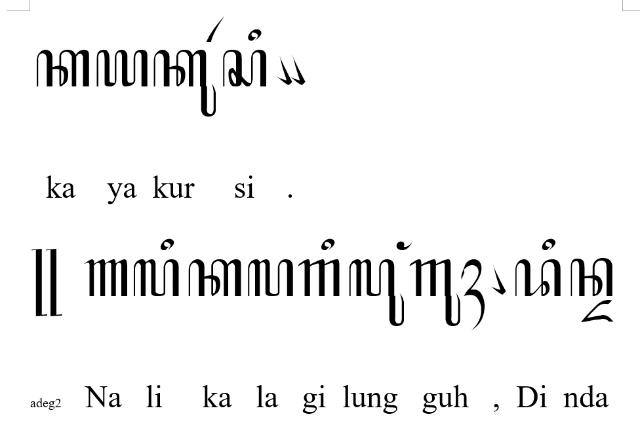N: (84, 260, 128, 296)
_d: (580, 300, 614, 322)
_h1: (461, 260, 485, 330)
_r1: (206, 16, 224, 42)
adeg2: (32, 249, 62, 318)
d: (515, 260, 561, 296)
g: (298, 259, 340, 297)
gu: (410, 259, 460, 327)
i: (321, 238, 335, 251), (248, 29, 262, 41), (160, 239, 174, 251), (542, 239, 556, 251)
k: (35, 49, 89, 87), (188, 259, 242, 297)
kom: (276, 54, 292, 86), (290, 54, 306, 86), (490, 264, 506, 296)
ku: (154, 49, 216, 117)
l: (132, 259, 180, 297), (248, 259, 294, 297)
lu: (349, 260, 405, 326)
n: (570, 259, 614, 297)
ng: (397, 242, 413, 250)
s: (223, 49, 267, 87)
y: (96, 49, 148, 87)
